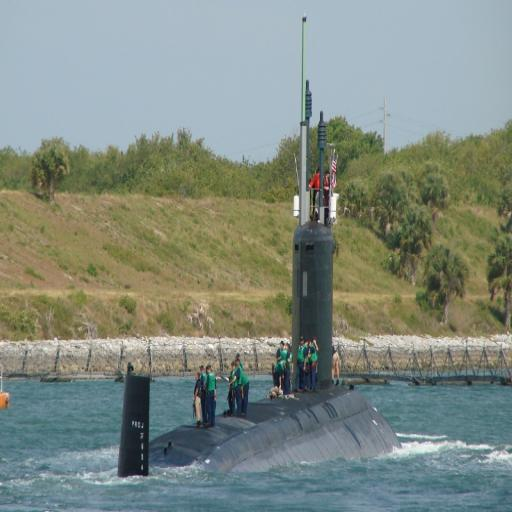submarine: (118, 12, 406, 479)
